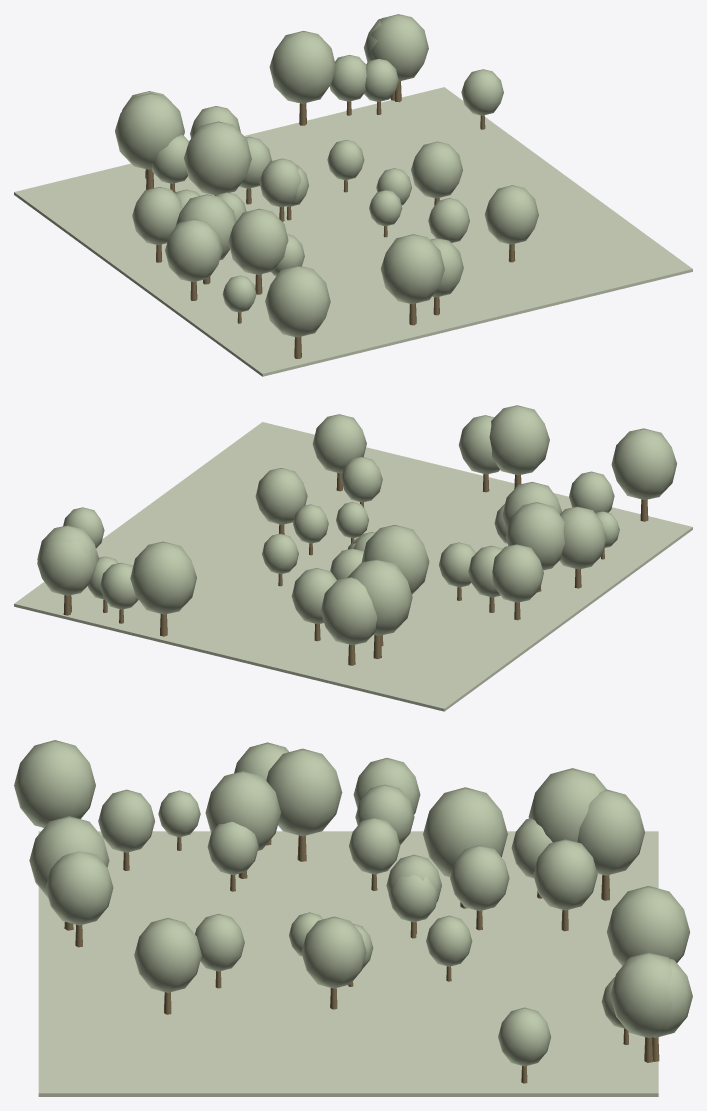
3 views of the same model, one above another, from view 1: azimuth 30°, elevation 25°; view 2: azimuth 150°, elevation 25°; view 3: azimuth 270°, elevation 25° (orthographic). The views are drawn at different scales.
Visible parts, largest first — view 1: terrain, lod-near-14, lod-near-15, lod-near-8, lod-near-10, lod-near-0, lod-near-6, lod-near-31, lod-near-29, lod-near-24, lod-near-7, lod-near-20 (+15 smaller); view 2: terrain, lod-near-15, lod-near-10, lod-near-0, lod-near-3, lod-near-8, lod-near-2, lod-near-12, lod-near-14, lod-near-20, lod-near-31, lod-near-24 (+17 smaller); view 3: terrain, lod-near-10, lod-near-15, lod-near-2, lod-near-14, lod-near-29, lod-near-3, lod-near-24, lod-near-18, lod-near-6, lod-near-8, lod-near-7 (+18 smaller).
Part boxes in pixels (x1,y1,x2,y2): terrain: (14, 87, 692, 376); lod-near-14: (184, 121, 251, 195); lod-near-15: (269, 31, 336, 103); lod-near-8: (115, 93, 184, 169); lod-near-10: (265, 265, 330, 337); lod-near-0: (381, 234, 444, 304); lod-near-6: (228, 208, 288, 274); lod-near-31: (165, 219, 222, 281); lod-near-29: (370, 14, 428, 81); lod-near-24: (484, 185, 538, 244); lod-near-7: (411, 141, 462, 198); lod-near-20: (132, 187, 182, 245); terrain: (14, 422, 692, 711); lod-near-15: (130, 541, 196, 614); lod-near-10: (611, 428, 676, 499); lod-near-0: (489, 405, 549, 475); lod-near-3: (320, 577, 377, 645); lod-near-8: (347, 559, 412, 635); lod-near-2: (505, 502, 564, 570); lod-near-12: (37, 539, 94, 595); lod-near-14: (361, 525, 429, 594); lod-near-20: (492, 544, 543, 602); lod-near-31: (559, 506, 606, 569); lod-near-24: (312, 414, 366, 473); terrain: (38, 831, 658, 1096); lod-near-10: (14, 740, 95, 827); lod-near-15: (607, 886, 689, 965); lod-near-2: (266, 748, 342, 836); lod-near-14: (423, 787, 507, 877); lod-near-29: (610, 952, 671, 1037); lod-near-3: (577, 789, 644, 875); lod-near-24: (134, 918, 201, 992); lod-near-18: (45, 851, 113, 925); lod-near-6: (205, 771, 280, 850); lod-near-8: (528, 768, 606, 842); lod-near-7: (301, 916, 366, 988).
Bounding box in the file's own units: 32.36 × 7.15 × 35.03.
